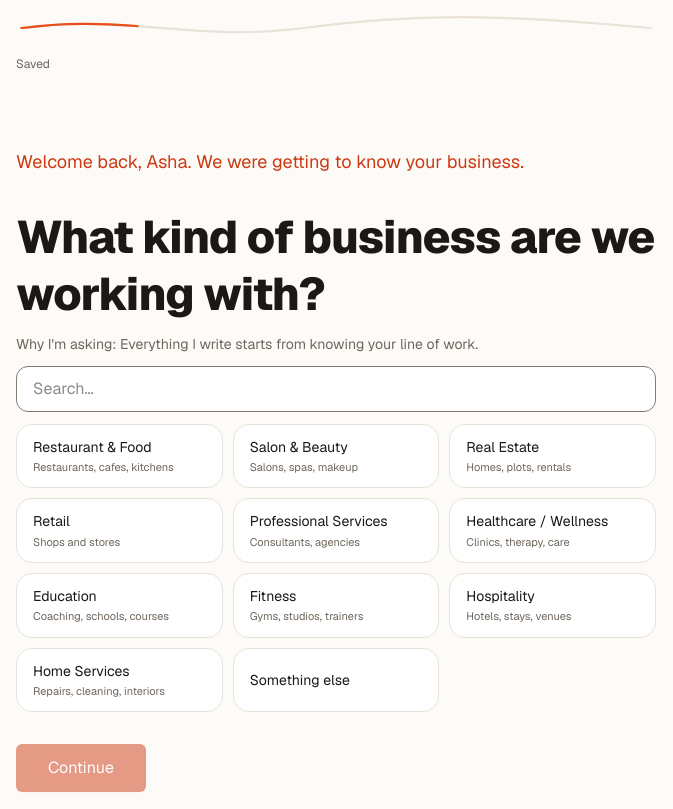
ConversationShell › two tabs (lightweight, last write wins) › says so when another tab changed the conversation, adopts the latest, and can be dismissed
The width and height of the screenshot is (673, 809).
Click the radio button labelled "Real Estate Homes, plots, rentals". click: click(553, 456)
box: [449,424,656,488]
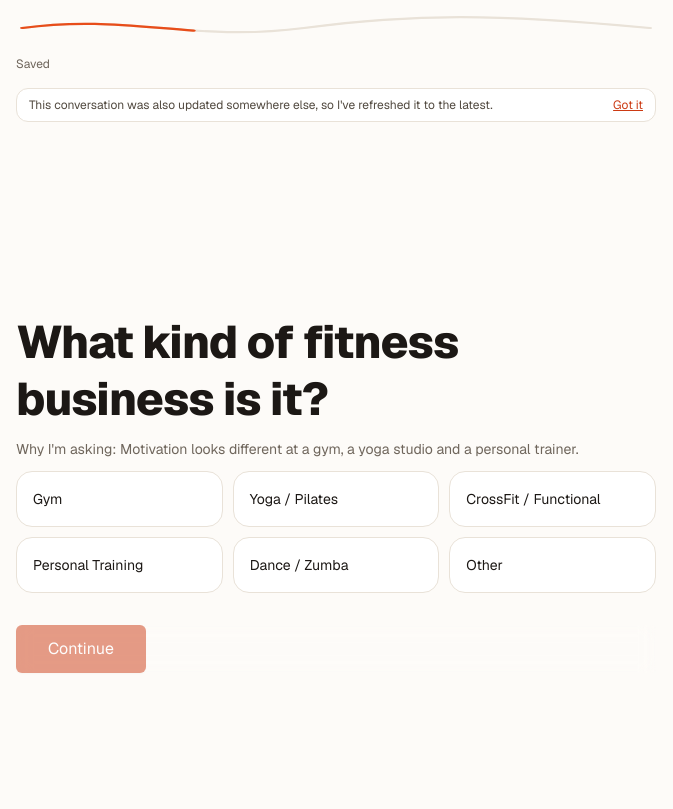
expect the text "also updated somewhere else" is shown: met, box [29,97,493,113]
Click the button "Got it". click: click(628, 105)
box: [613,97,643,113]
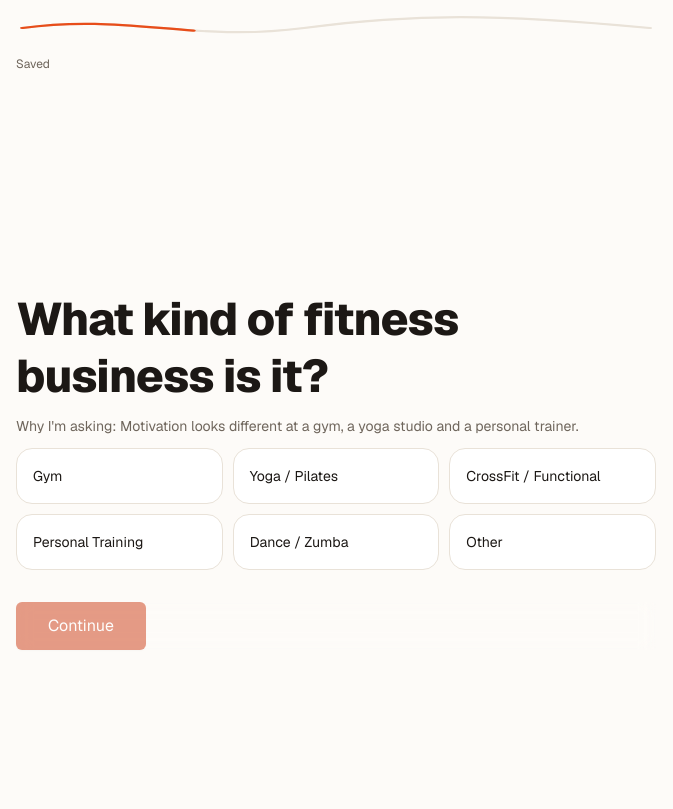
expect the text "also updated somewhere else" is gone: met
